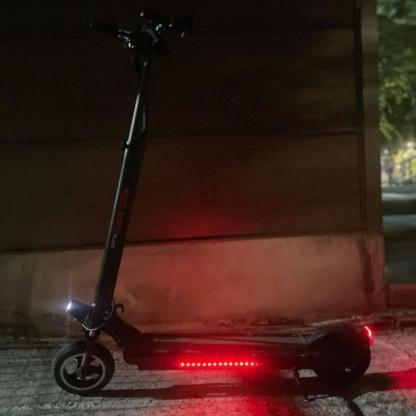kickboard: (51, 9, 375, 399)
